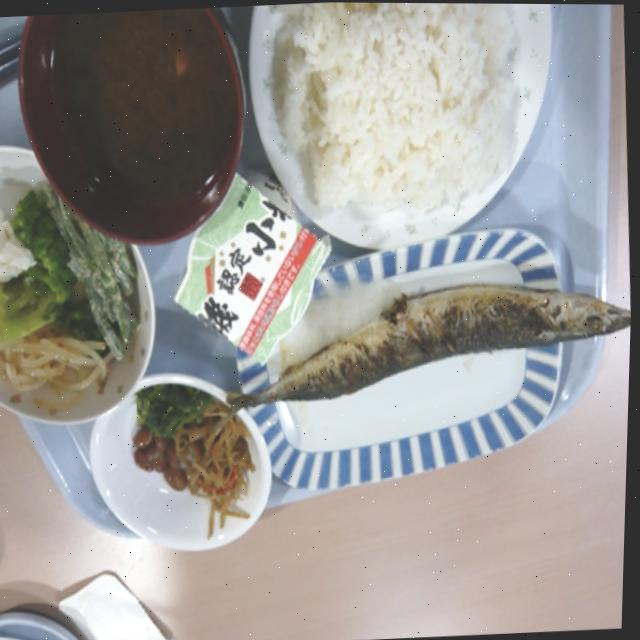熟制海鲜: (189, 262, 634, 444)
